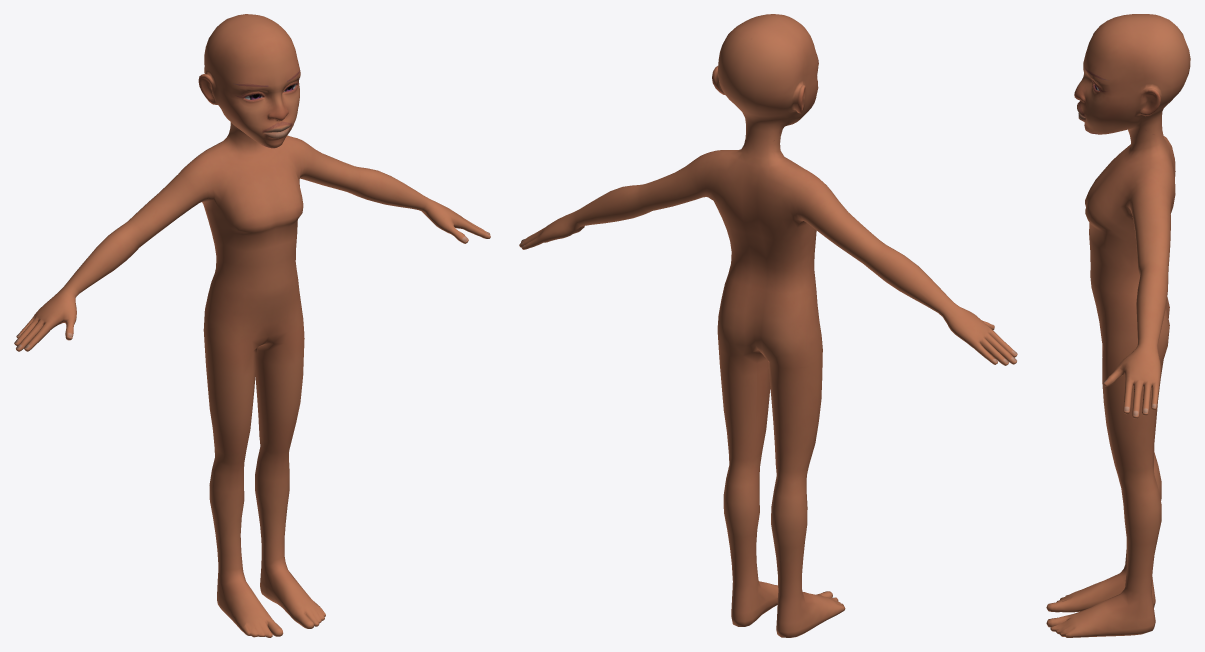
Rendered from frame_0049.glb.
3 views of the same model, side by side, from view 1: azimuth 30°, elevation 25°; view 2: azimuth 150°, elevation 25°; view 3: azimuth 270°, elevation 25° (orthographic). The views are drawn at different scales.
Parts seen in each view (by area): view 1: frame_0049_head_geo; view 2: frame_0049_head_geo; view 3: frame_0049_head_geo.
Part boxes in pixels (x1,y1,x2,y2): frame_0049_head_geo: [14, 14, 490, 637]; frame_0049_head_geo: [519, 14, 1017, 637]; frame_0049_head_geo: [1046, 14, 1190, 637].
Size of the model in its own units: 1.28 by 1.5 by 0.3253.
3 materials, 3 textured.
